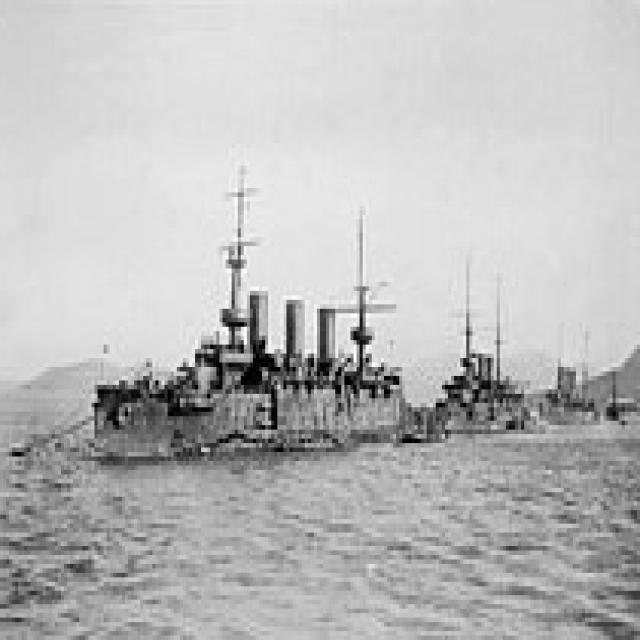Warship: (92, 157, 408, 466), (418, 242, 548, 438), (536, 313, 606, 434)
